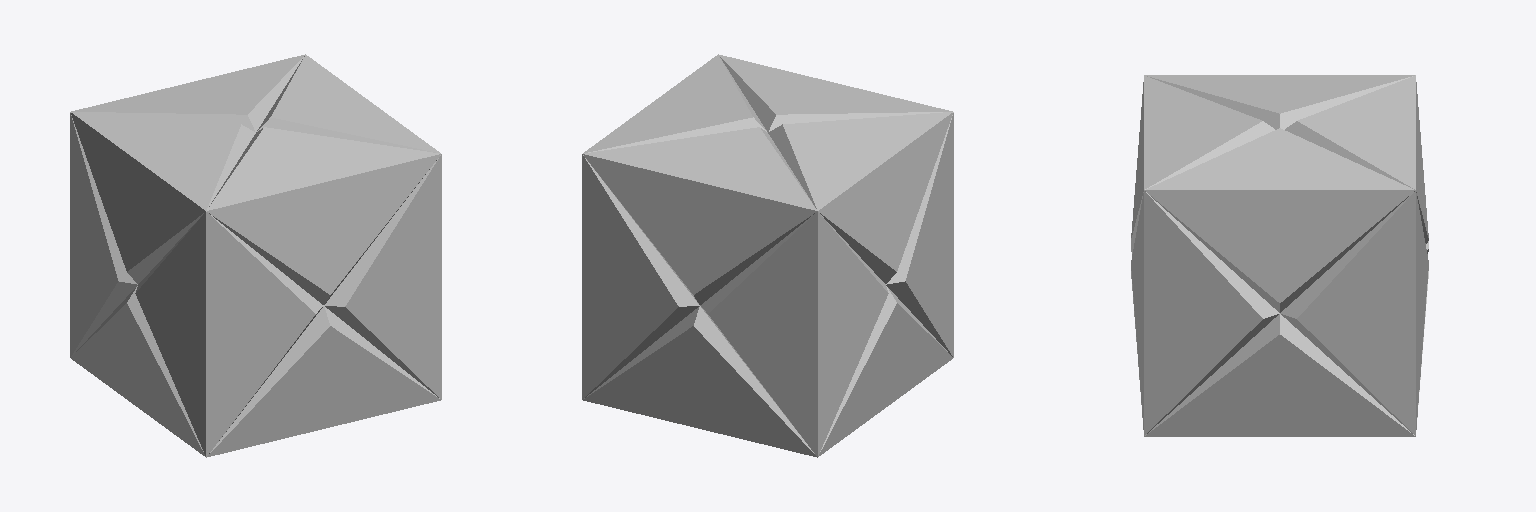
File: crackattackcubehires_simplified.obj
3 renders of one model, left to right at view 1: azimuth 30°, elevation 25°; view 2: azimuth 150°, elevation 25°; view 3: azimuth 270°, elevation 25°, orthographic.
Parts seen in each view (by area): view 1: cube1; view 2: cube1; view 3: cube1.
Part boxes in pixels (x1,y1,x2,y2): cube1: (70, 54, 441, 457); cube1: (582, 54, 953, 457); cube1: (1131, 75, 1428, 436).
Bounding box in the file's own units: 1.97 × 1.97 × 1.97.